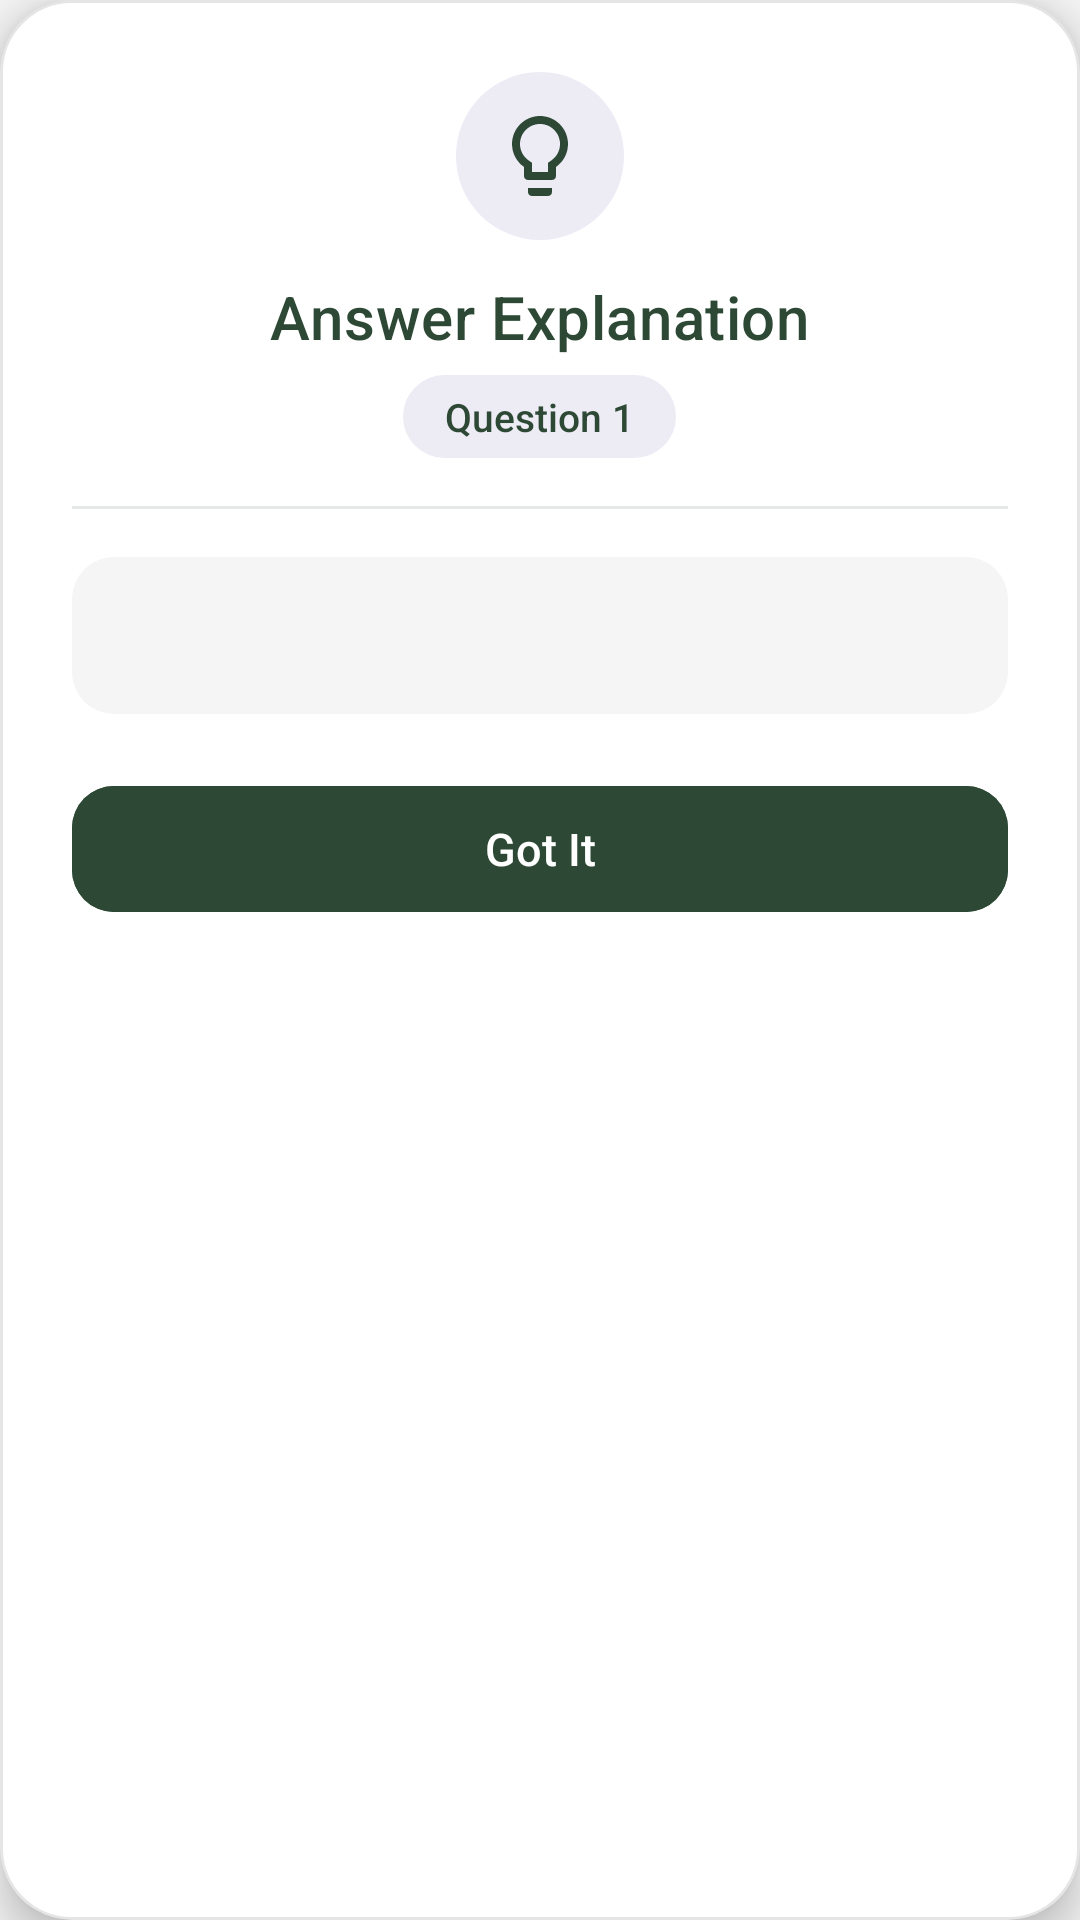

Point at icon controls on the screen. Image size 1080x1920, points as point (x, y).
See Explanation: point (540, 156)
